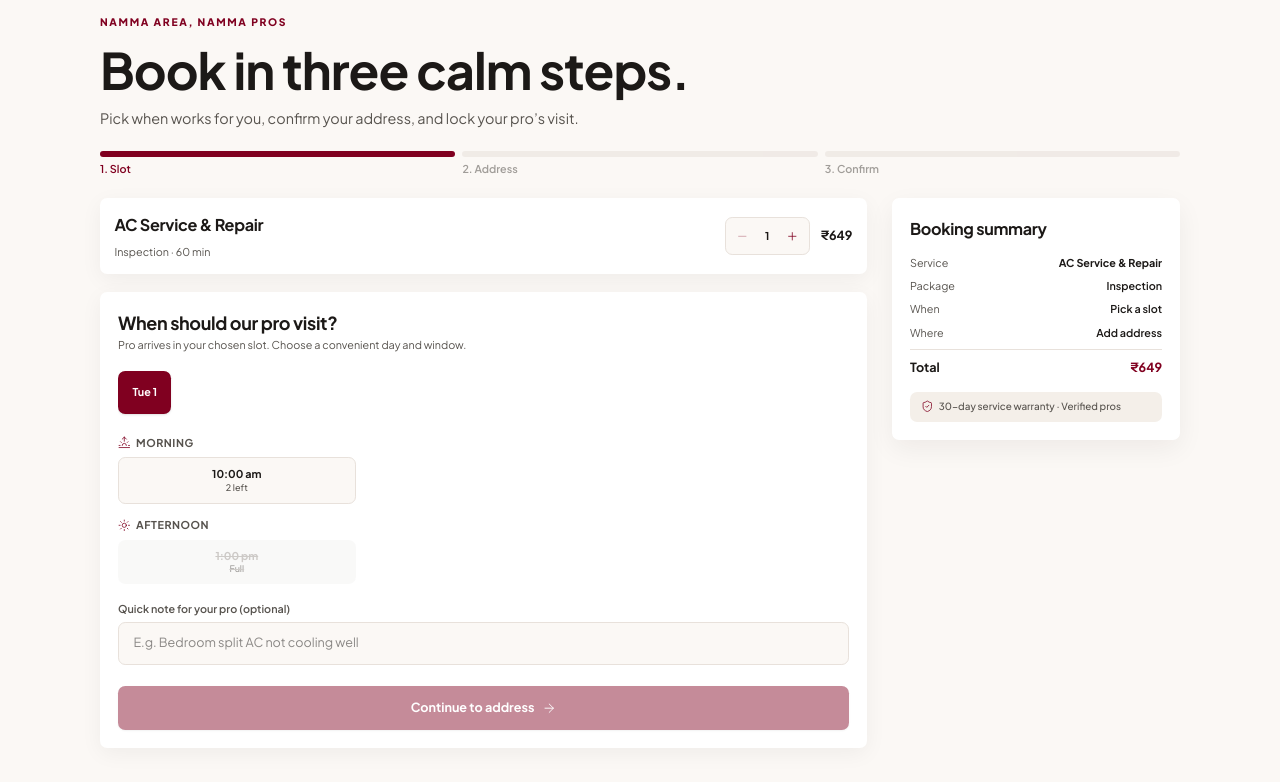
it: customer experience › allows editing a saved booking address in step 2
The image size is (1280, 782).
Click the button "10:00 am 2 left" at (237, 480), box [118,457,356,504]
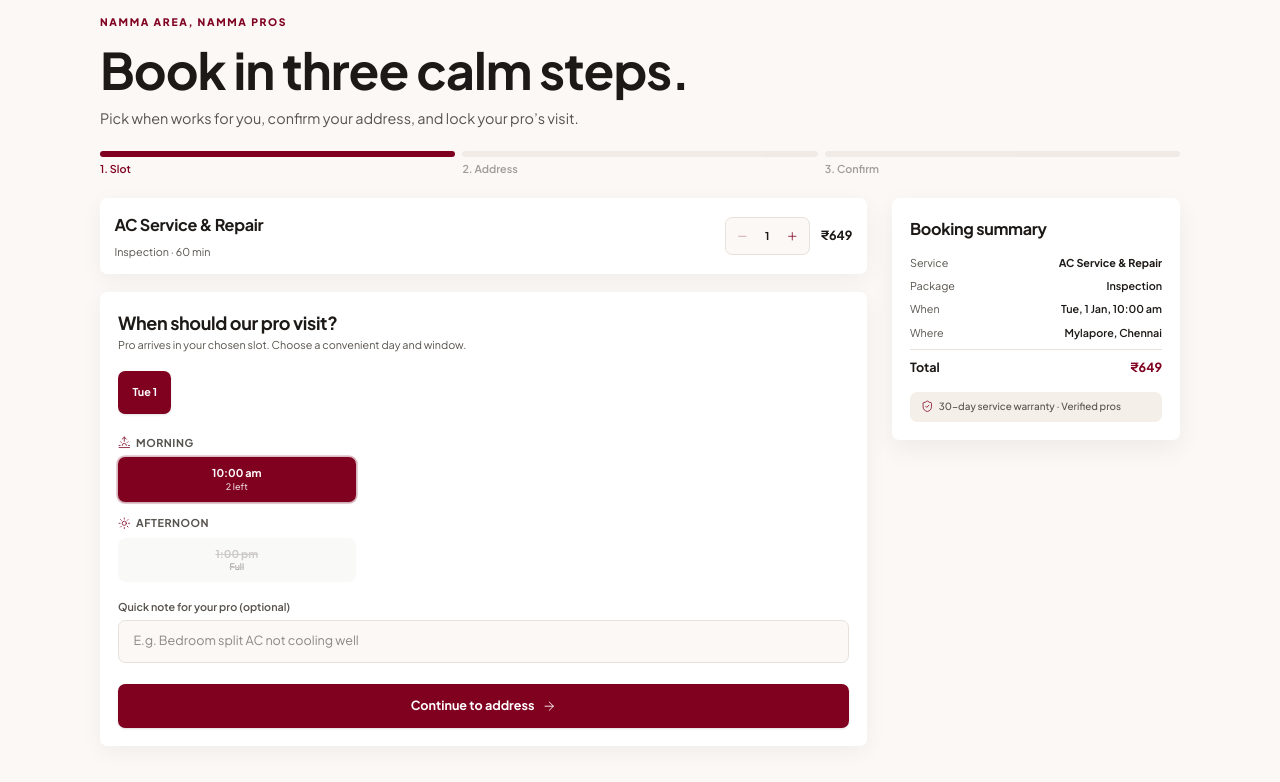
Click the button "Continue to address" at (483, 706), box [118,684,849,728]
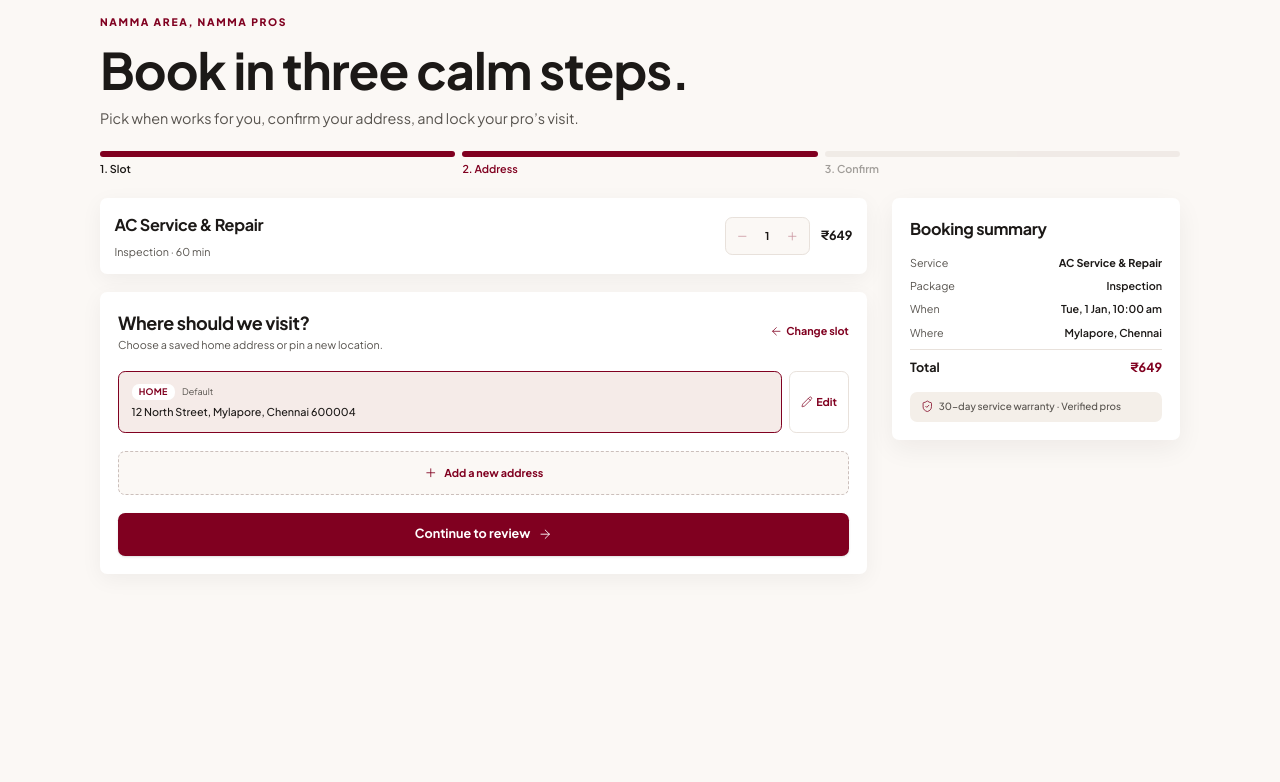
Click the button with aria-label "Edit Home address" at (819, 402), box [789,371,849,433]
(page scrolled)
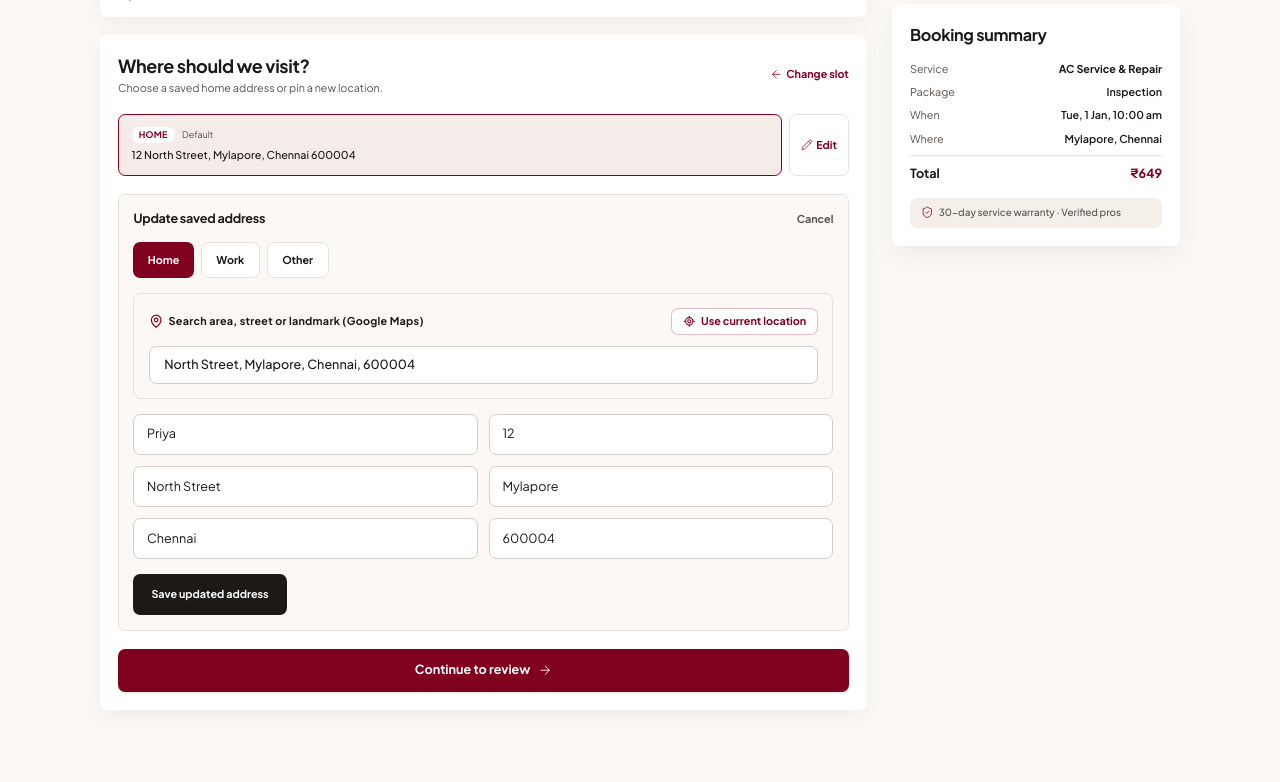
Click the button "Save updated address" at (210, 594), box [133,574,287,615]
(page scrolled)
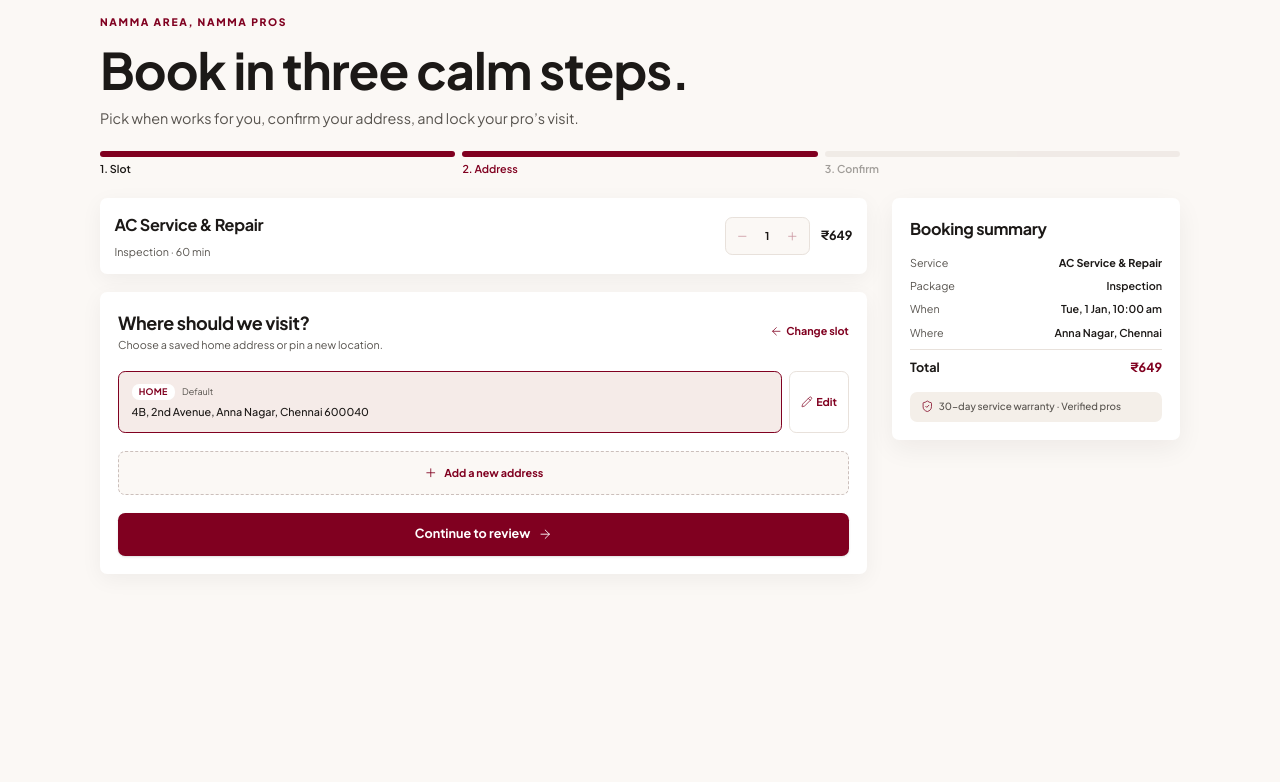
Now the text "4B, 2nd Avenue, Anna Nagar, Chennai 600040" is shown, box [132,405,369,418]
